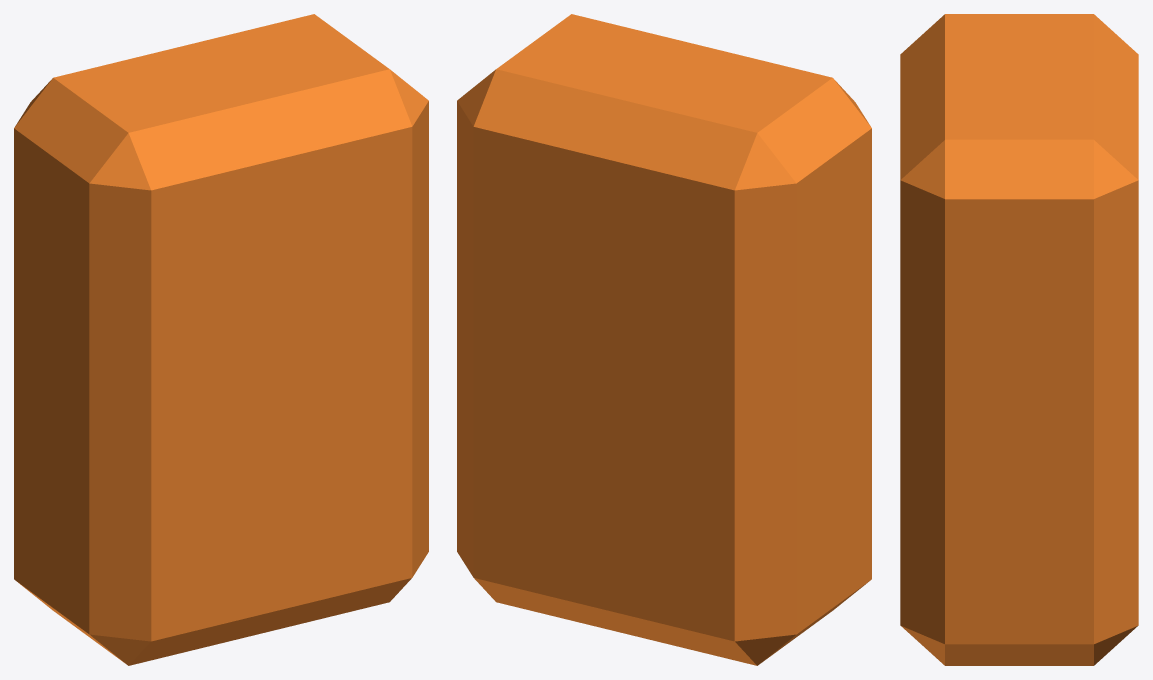
The model's file is tank_long_range.glb.
3 renders of one model, left to right at view 1: azimuth 30°, elevation 25°; view 2: azimuth 150°, elevation 25°; view 3: azimuth 270°, elevation 25°, orthographic.
Visible parts, largest first — view 1: auxiliary_tank.001; view 2: auxiliary_tank.001; view 3: auxiliary_tank.001.
Part boxes in pixels (x1,y1,x2,y2): auxiliary_tank.001: (14, 14, 428, 665); auxiliary_tank.001: (457, 14, 871, 665); auxiliary_tank.001: (900, 14, 1138, 665).
Bounding box in the file's own units: 1.04 × 1.56 × 0.64.
